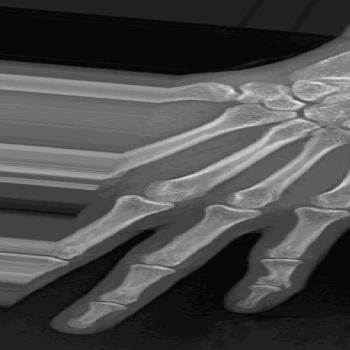Fracture: (252, 278, 304, 293)
